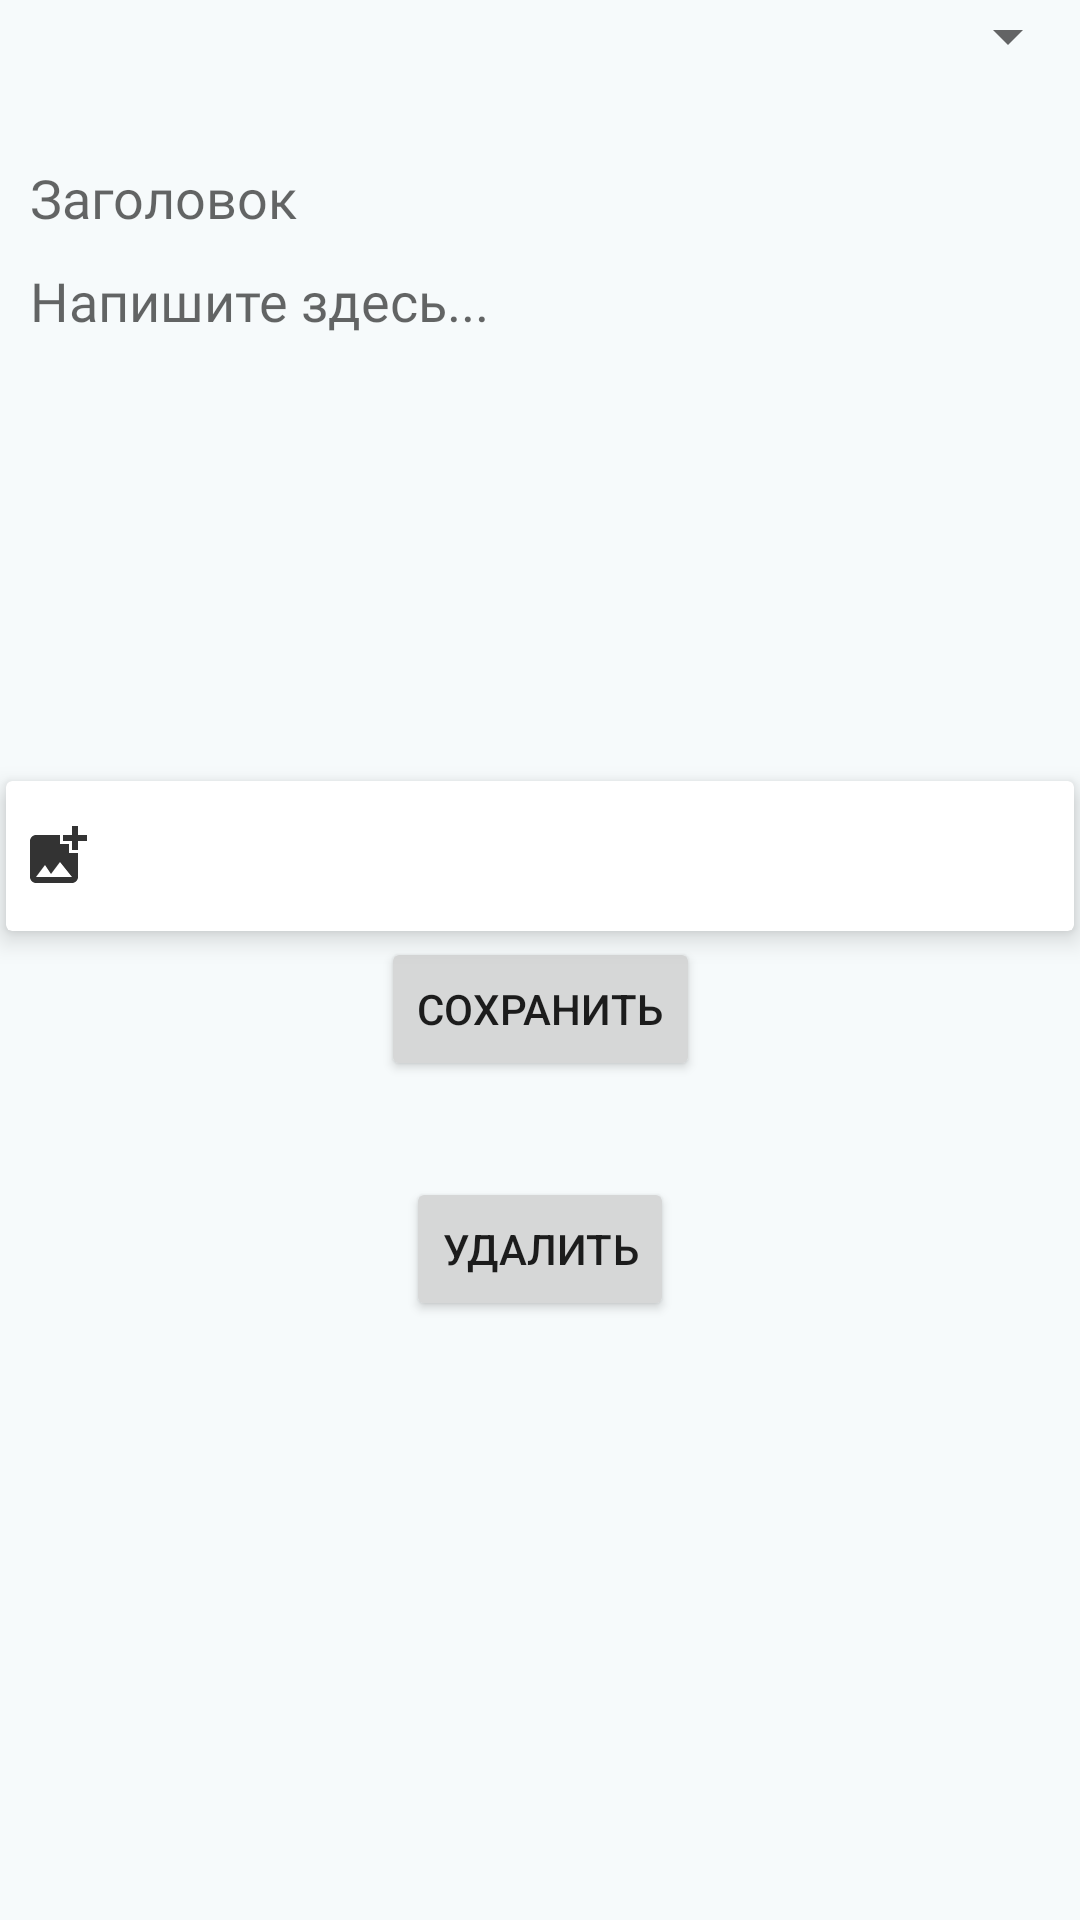

Named icons in this screenshot (1080 x 1920) and their centers, (x=x, y=y):
add photo: (x=58, y=854)
